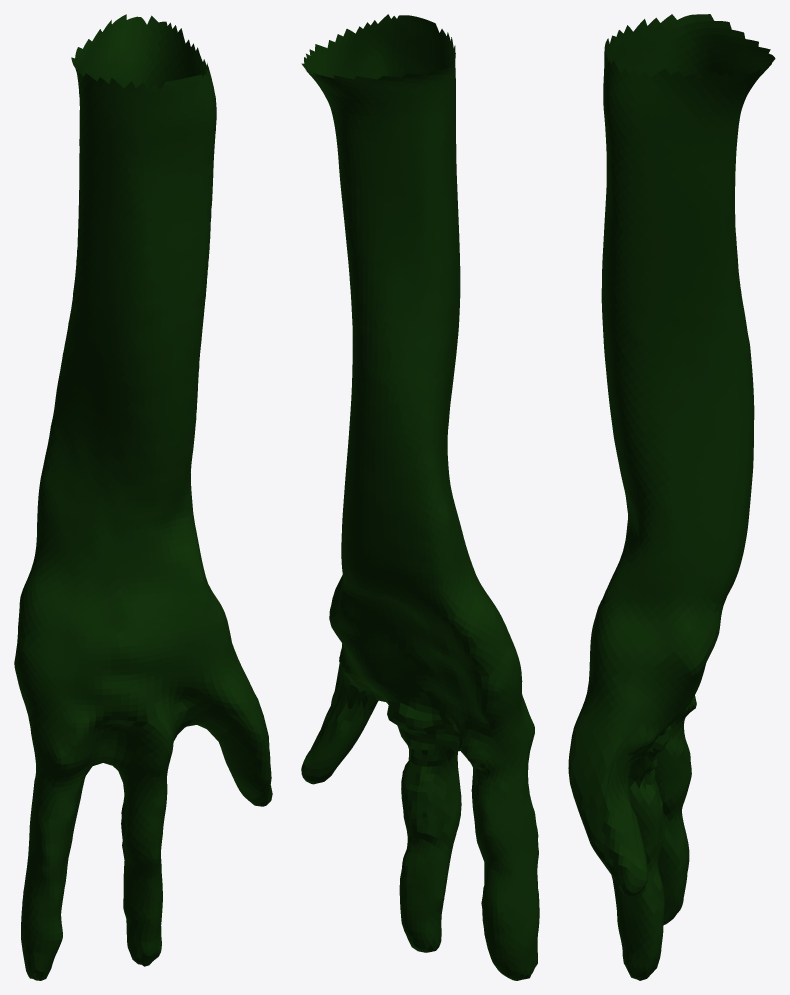
Rendered from lowerA.obj.
3 renders of one model, left to right at view 1: azimuth 30°, elevation 25°; view 2: azimuth 150°, elevation 25°; view 3: azimuth 270°, elevation 25°, orthographic. The views are drawn at different scales.
Visible parts, largest first — view 1: alien_12:alien; view 2: alien_12:alien; view 3: alien_12:alien.
Boxes of the visible parts, x1,y1,x2,y2 form: alien_12:alien: (14,14,272,980); alien_12:alien: (301,14,539,980); alien_12:alien: (568,14,775,980).
Size of the model in its own units: 0.5404 by 1.95 by 0.3878.
